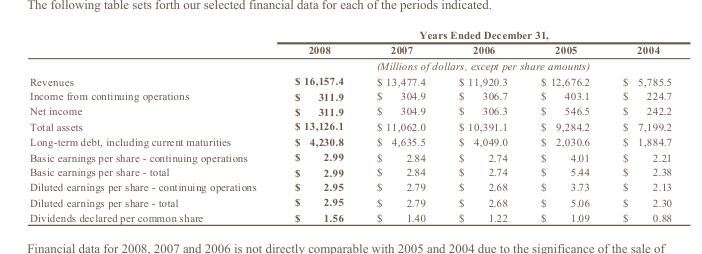table: (29, 28, 671, 223)
table column: (29, 28, 274, 223), (274, 28, 359, 223), (359, 28, 441, 223), (441, 28, 523, 223), (523, 28, 605, 223), (605, 28, 671, 223)
table column header: (29, 28, 671, 72)
table row: (29, 72, 671, 88), (29, 148, 671, 164), (29, 42, 671, 57), (29, 57, 671, 72), (29, 88, 671, 103), (29, 103, 671, 118), (29, 118, 671, 133), (29, 133, 671, 148), (29, 164, 671, 179), (29, 179, 671, 194), (29, 194, 671, 209), (29, 28, 671, 42), (29, 209, 671, 223)
table spanning cell: (274, 57, 671, 72), (274, 28, 671, 42)
